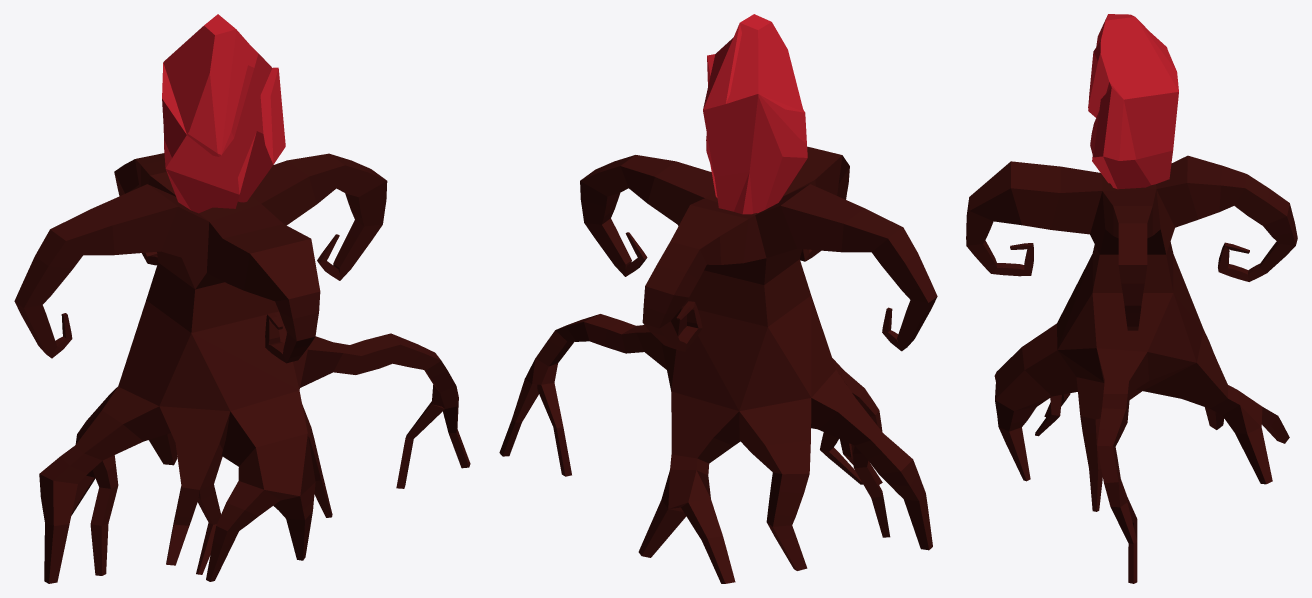
File: arvorecristal1.fbx
3 renders of one model, left to right at view 1: azimuth 30°, elevation 25°; view 2: azimuth 150°, elevation 25°; view 3: azimuth 270°, elevation 25°, orthographic. The views are drawn at different scales.
Parts seen in each view (by area): view 1: cristal; view 2: cristal; view 3: cristal.
Boxes of the visible parts, <box> form: cristal: <box>14,14,470,583</box>; cristal: <box>499,14,937,583</box>; cristal: <box>966,14,1297,583</box>.
Size of the model in its own units: 1079 by 1180 by 766.
